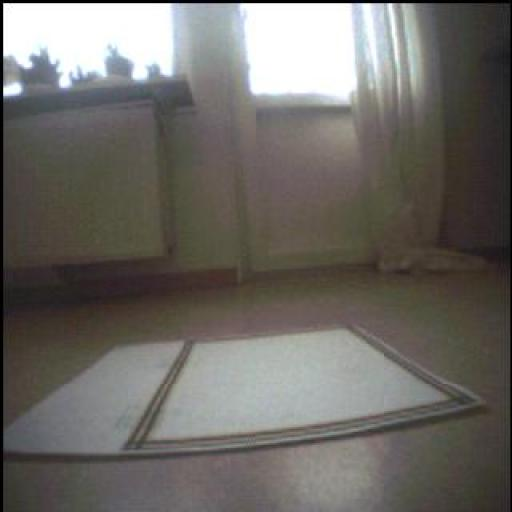Pad: (4, 327, 483, 457)
